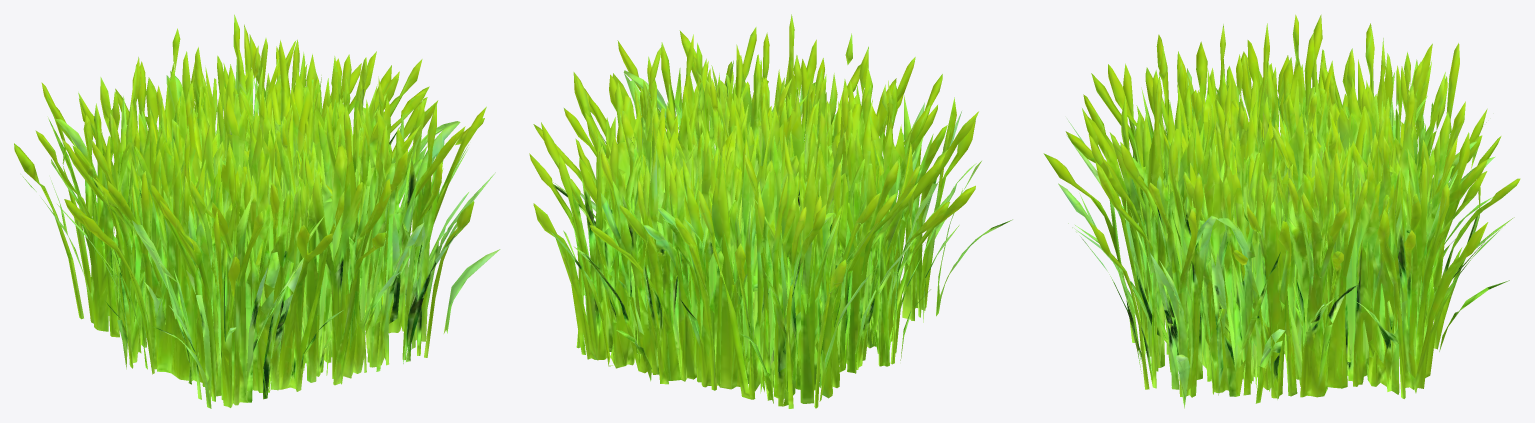
The model's file is wheat-seedling.glb.
3 views of the same model, side by side, from view 1: azimuth 30°, elevation 25°; view 2: azimuth 150°, elevation 25°; view 3: azimuth 270°, elevation 25° (orthographic). The views are drawn at different scales.
Visible parts, largest first — view 1: Mesh_0; view 2: Mesh_0; view 3: Mesh_0.
Part boxes in pixels (box(x1,y1,x2,y2)): Mesh_0: box(14, 14, 500, 408); Mesh_0: box(529, 14, 1012, 408); Mesh_0: box(1043, 14, 1520, 408).
Bounding box in the file's own units: 0.1248 × 0.08 × 0.125.
Materials: 1 (1 with a texture image).
